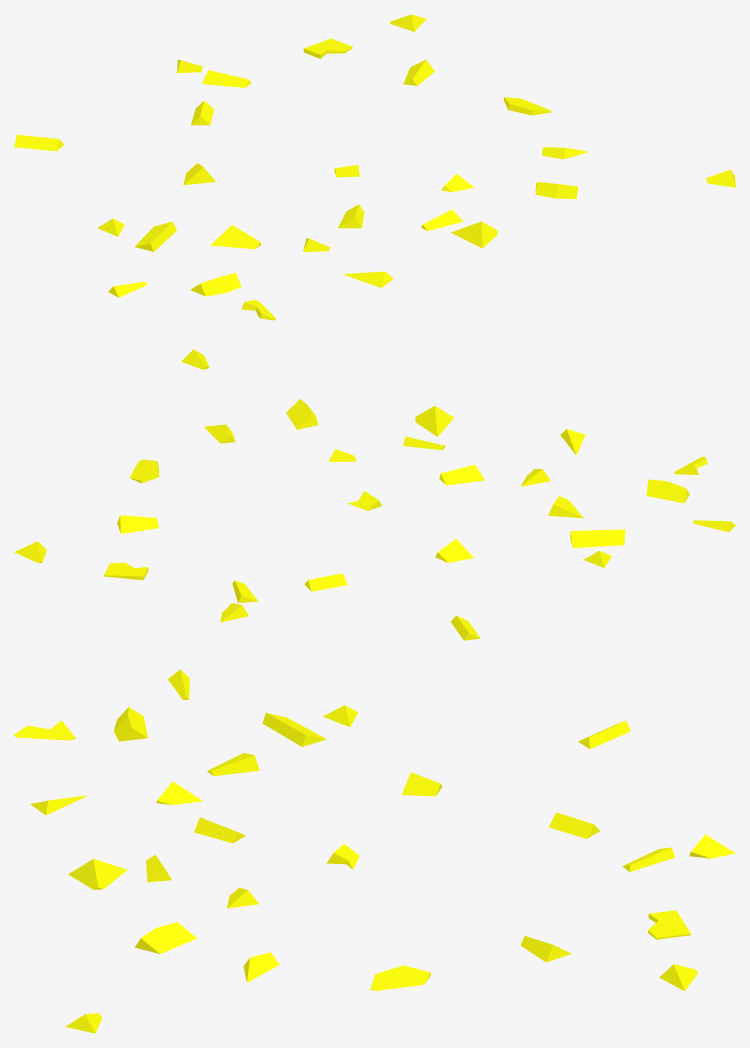
Rendered from debris_bricks_mx_2.glb.
3 renders of one model, top to bottom at view 1: azimuth 30°, elevation 25°; view 2: azimuth 150°, elevation 25°; view 3: azimuth 270°, elevation 25°, orthographic. The views are drawn at different scales.
Parts seen in each view (by area): view 1: debris_bricks_mx_2; view 2: debris_bricks_mx_2; view 3: debris_bricks_mx_2.
Boxes of the visible parts, bbox=[...] form: debris_bricks_mx_2: bbox=[14, 14, 735, 320]; debris_bricks_mx_2: bbox=[14, 349, 735, 640]; debris_bricks_mx_2: bbox=[14, 669, 735, 1033].
Size of the model in its own units: 2.33 by 0.0652 by 2.
Materials: 1 (1 with a texture image).
